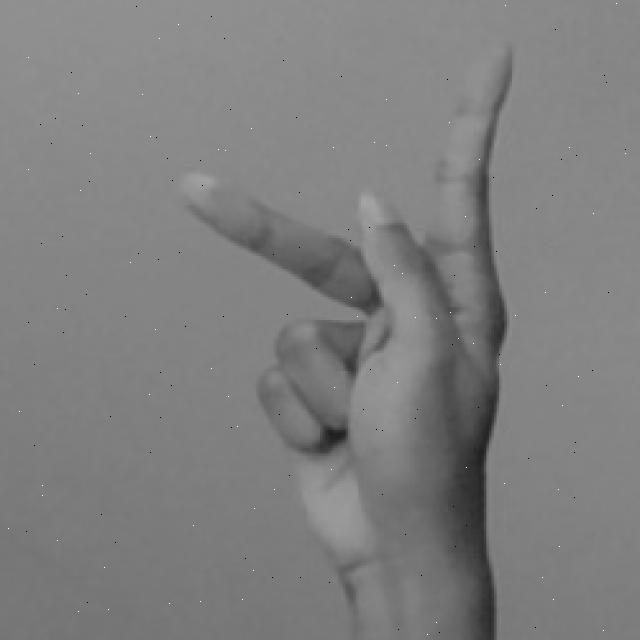K: (172, 33, 516, 640)
